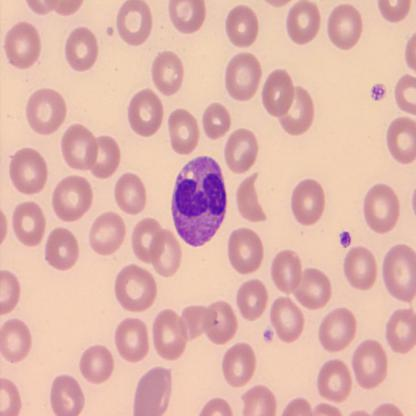Segmented neutrophil: (171, 153, 228, 249)
